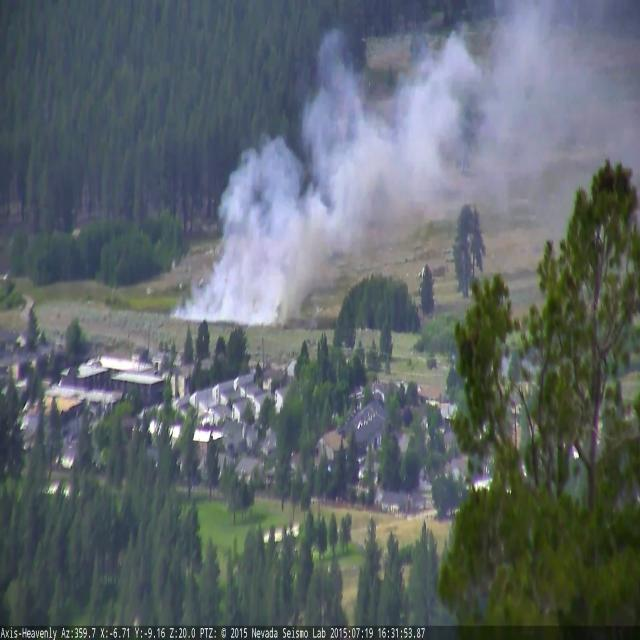smoke: (183, 0, 640, 325)
